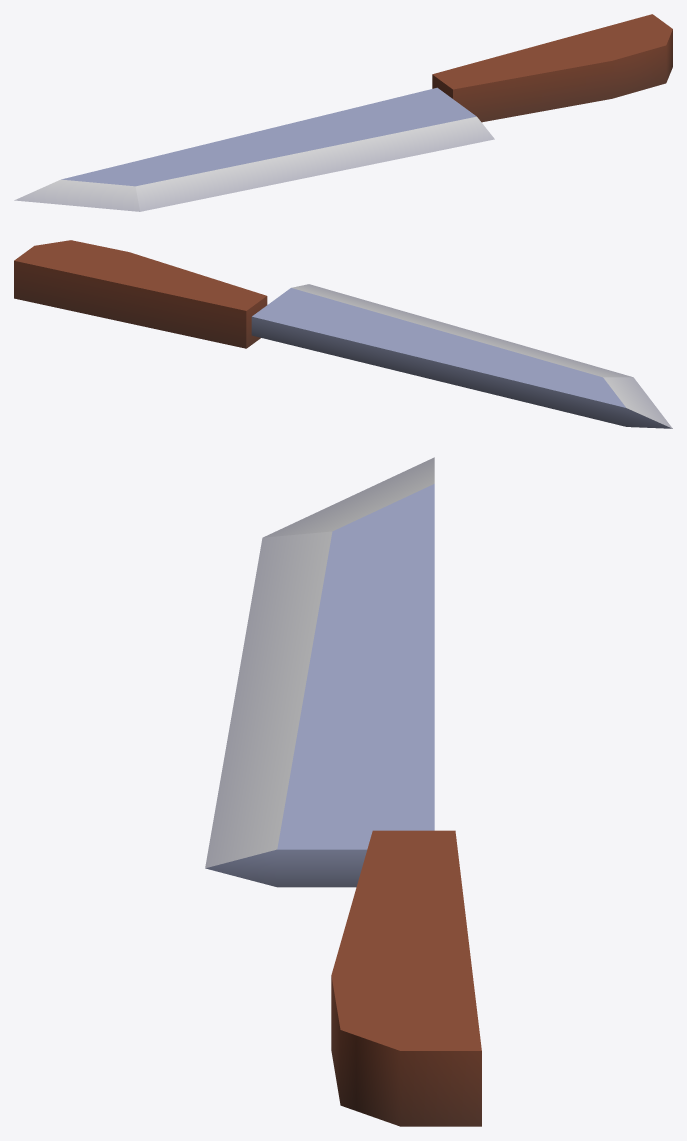
The model's file is cooking-knife.glb.
3 views of the same model, one above another, from view 1: azimuth 30°, elevation 25°; view 2: azimuth 150°, elevation 25°; view 3: azimuth 270°, elevation 25° (orthographic). The views are drawn at different scales.
Visible parts, largest first — view 1: cooking-knife; view 2: cooking-knife; view 3: cooking-knife.
Part boxes in pixels (bbox=[...]): cooking-knife: bbox=[14, 14, 672, 211]; cooking-knife: bbox=[14, 240, 672, 428]; cooking-knife: bbox=[205, 457, 481, 1126].
Size of the model in its own units: 0.7162 by 0.04 by 0.1327.
